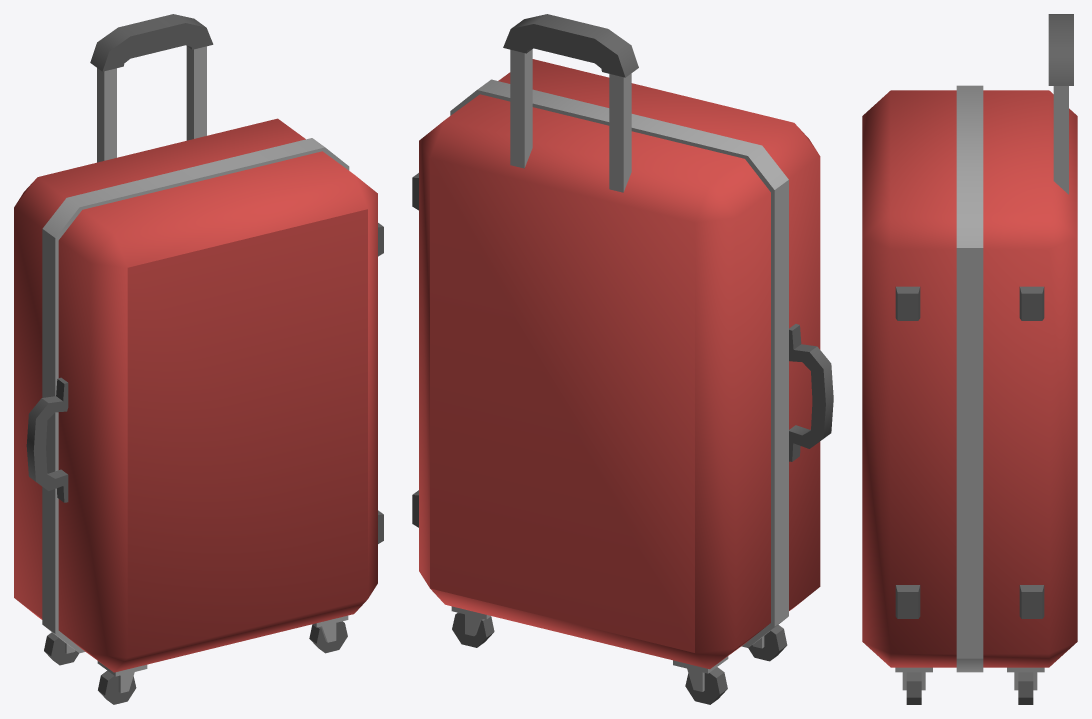
Rendered from Suitcase_Medium.fbx.
The picture shows the model from 3 angles, left to right: view 1: azimuth 30°, elevation 25°; view 2: azimuth 150°, elevation 25°; view 3: azimuth 270°, elevation 25°; orthographic projection. The views are drawn at different scales.
Parts seen in each view (by area): view 1: Suitcase_Medium; view 2: Suitcase_Medium; view 3: Suitcase_Medium.
Boxes of the visible parts, x1,y1,x2,y2 form: Suitcase_Medium: [14, 14, 383, 704]; Suitcase_Medium: [412, 14, 833, 704]; Suitcase_Medium: [862, 14, 1077, 704].
Size of the model in its own units: 98.21 by 169 by 53.26.
